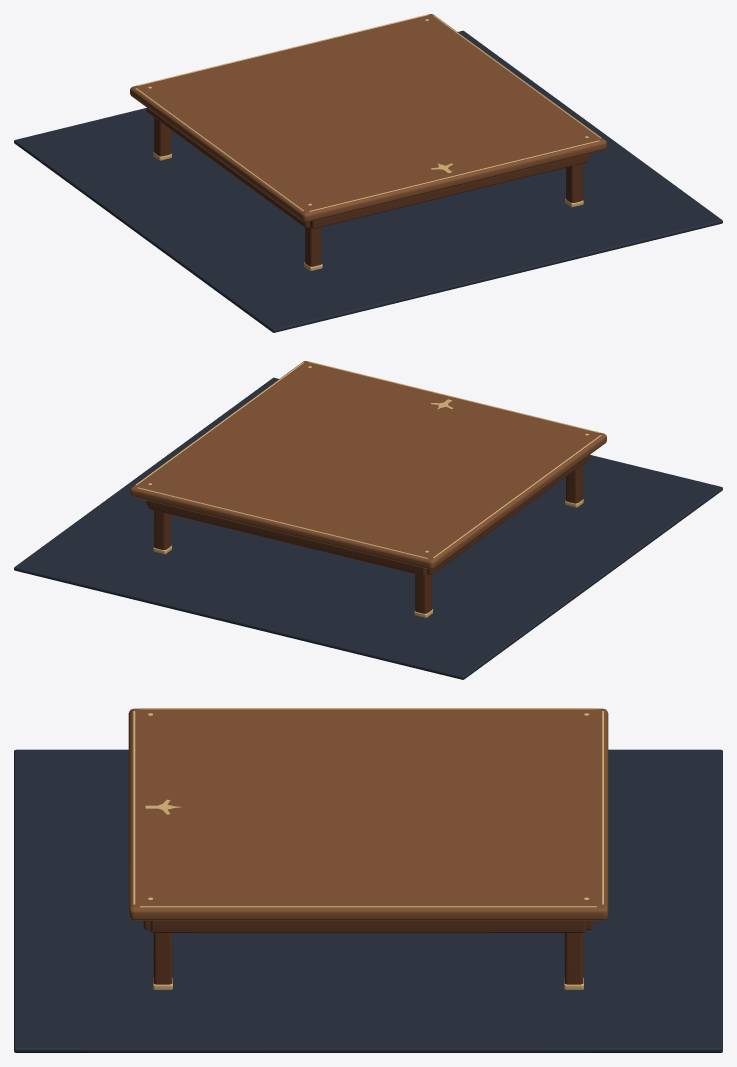
The model's file is ludomada-gameplay-environment-v1.glb.
3 views of the same model, one above another, from view 1: azimuth 30°, elevation 25°; view 2: azimuth 150°, elevation 25°; view 3: azimuth 270°, elevation 25° (orthographic). The views are drawn at different scales.
Parts seen in each view (by area): view 1: GMENV_Studio_Floor, GMENV_Tabletop_Walnut, GMENV_Apron_Y_-1, GMENV_Apron_X_-1, GMENV_Table_Leg_L_S, GMENV_Table_Leg_R_S, GMENV_Table_Leg_L_N, GMENV_Perimeter_Inlay_Y_-1; view 2: GMENV_Studio_Floor, GMENV_Tabletop_Walnut, GMENV_Apron_Y_1, GMENV_Apron_X_-1, GMENV_Table_Leg_L_N, GMENV_Table_Leg_R_N, GMENV_Table_Leg_L_S, GMENV_Perimeter_Inlay_Y_1; view 3: GMENV_Studio_Floor, GMENV_Tabletop_Walnut, GMENV_Apron_X_1, GMENV_Table_Leg_R_N, GMENV_Table_Leg_R_S, GMENV_Perimeter_Inlay_X_1, GMENV_Perimeter_Inlay_X_-1, GMENV_Perimeter_Inlay_Y_1, GMENV_Perimeter_Inlay_Y_-1.
Boxes of the visible parts, box(x1,y1,x2,y2) form: GMENV_Studio_Floor: box(14, 30, 722, 332); GMENV_Tabletop_Walnut: box(130, 14, 606, 222); GMENV_Apron_Y_-1: box(310, 154, 588, 228); GMENV_Apron_X_-1: box(146, 108, 309, 227); GMENV_Table_Leg_L_S: box(305, 227, 321, 266); GMENV_Table_Leg_R_S: box(566, 163, 582, 202); GMENV_Table_Leg_L_N: box(154, 117, 170, 156); GMENV_Perimeter_Inlay_Y_-1: box(309, 140, 599, 211); GMENV_Studio_Floor: box(14, 377, 722, 679); GMENV_Tabletop_Walnut: box(130, 361, 606, 569); GMENV_Apron_Y_1: box(148, 501, 426, 575); GMENV_Apron_X_-1: box(427, 455, 590, 574); GMENV_Table_Leg_L_N: box(415, 574, 431, 613); GMENV_Table_Leg_R_N: box(154, 510, 170, 549); GMENV_Table_Leg_L_S: box(566, 464, 582, 503); GMENV_Perimeter_Inlay_Y_1: box(137, 487, 427, 558); GMENV_Studio_Floor: box(14, 749, 722, 1052); GMENV_Tabletop_Walnut: box(128, 708, 608, 920); GMENV_Apron_X_1: box(150, 921, 586, 932); GMENV_Table_Leg_R_N: box(564, 933, 583, 984); GMENV_Table_Leg_R_S: box(153, 933, 172, 984); GMENV_Perimeter_Inlay_X_1: box(140, 906, 596, 907); GMENV_Perimeter_Inlay_X_-1: box(140, 708, 596, 709); GMENV_Perimeter_Inlay_Y_1: box(601, 711, 603, 904); GMENV_Perimeter_Inlay_Y_-1: box(133, 711, 135, 904).
Bounding box in the file's own units: 15.5 × 2.36 × 15.5.
